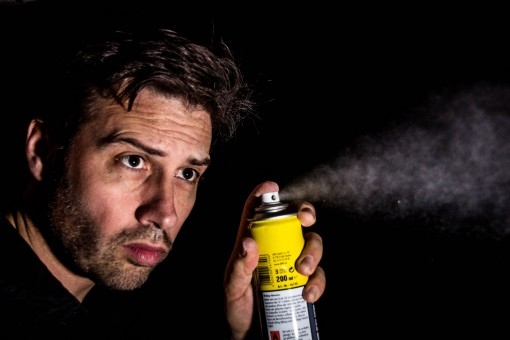Aerosol_cans: (247, 189, 324, 340)
